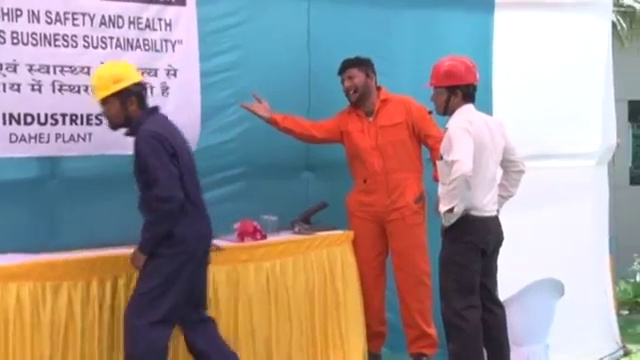helmet: (88, 60, 145, 104), (423, 55, 482, 90)
helmet_off: (335, 56, 384, 108)
helmet_on: (87, 59, 151, 132), (422, 54, 483, 121)
person: (241, 55, 447, 360), (85, 60, 241, 360), (422, 53, 528, 360)
